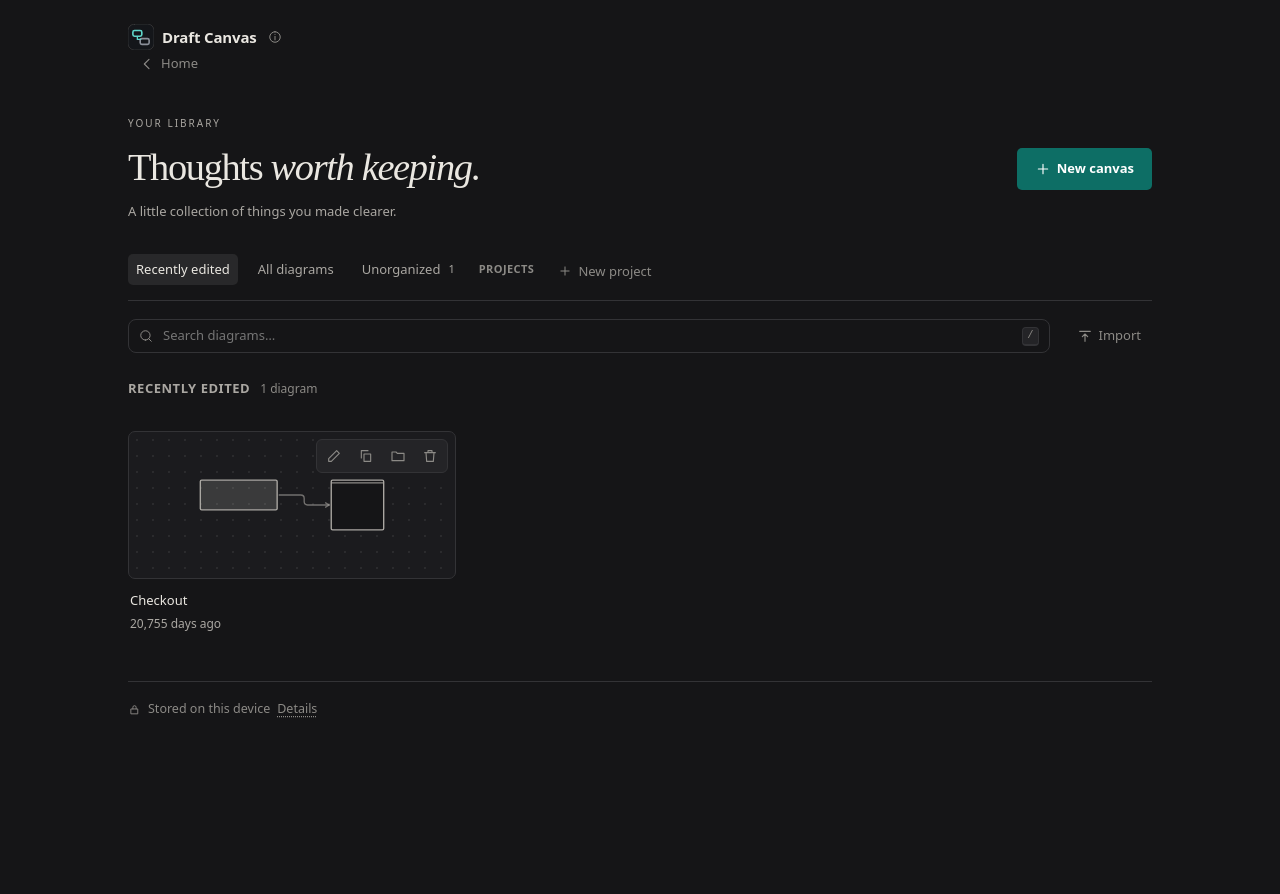
Test: LibraryScreen — the local-first line › is one line until asked, then says the honest part
Expected: the text "Clearing this browser" is not shown
Click the button "Stored on this device Details" at (223, 710), box 128,696 -> 317,723
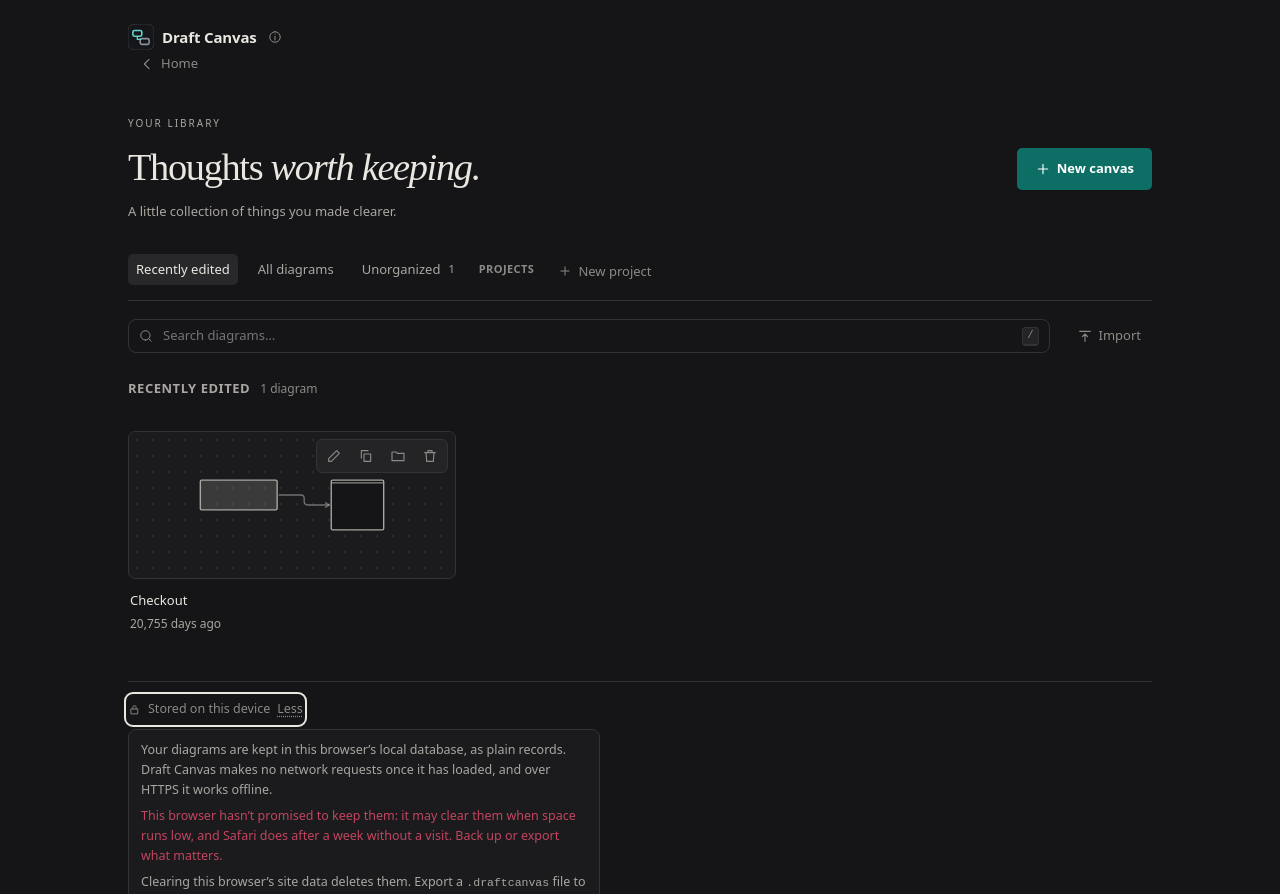
Now the button "Stored on this device Less" is expanded, box 128,696 -> 303,723
Now the text "Clearing this browser" is shown, box 141,873 -> 466,890
Now the text "works offline" is shown, box 141,741 -> 566,798
